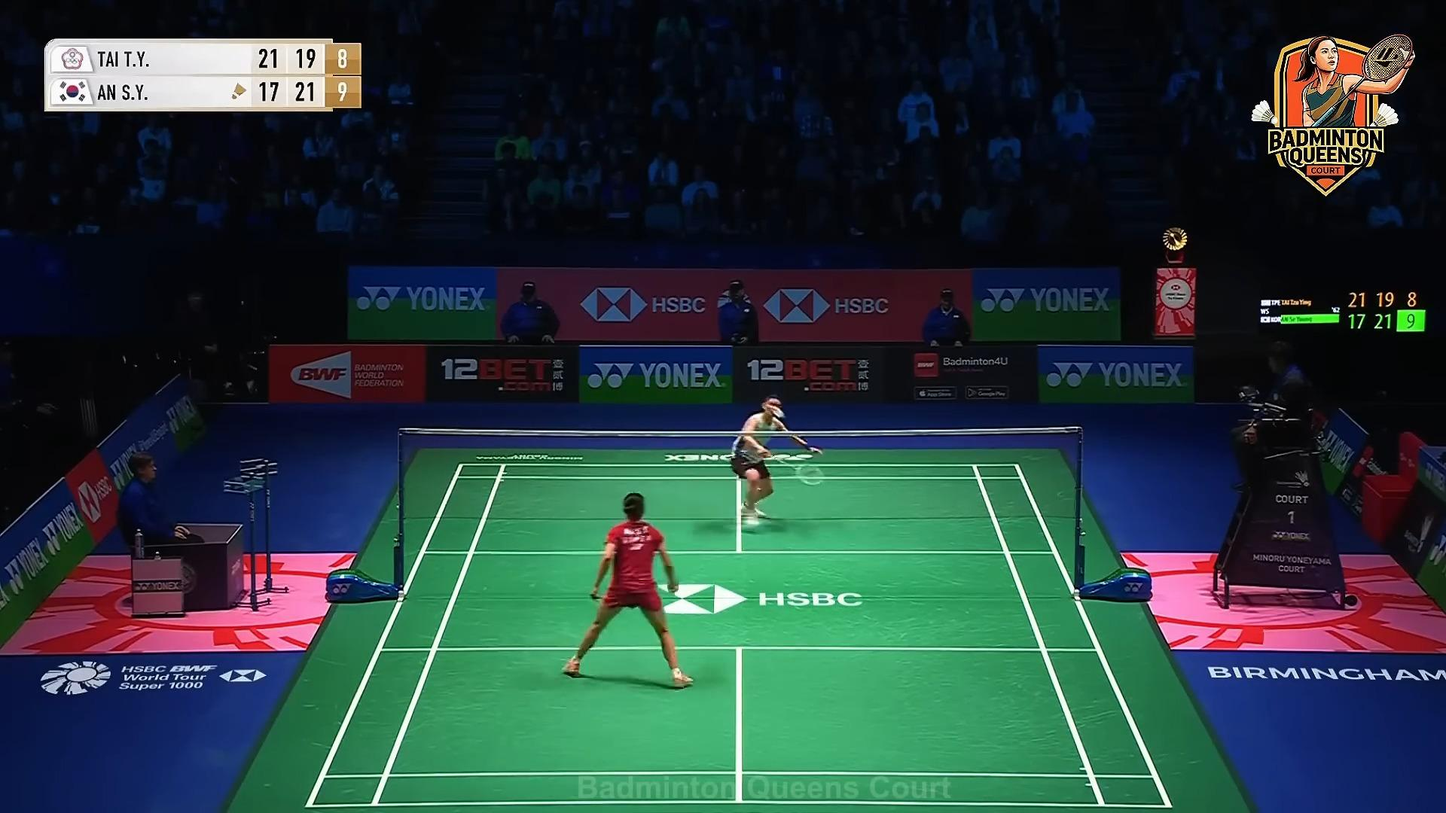shuttlecock: (772, 407, 786, 419)
